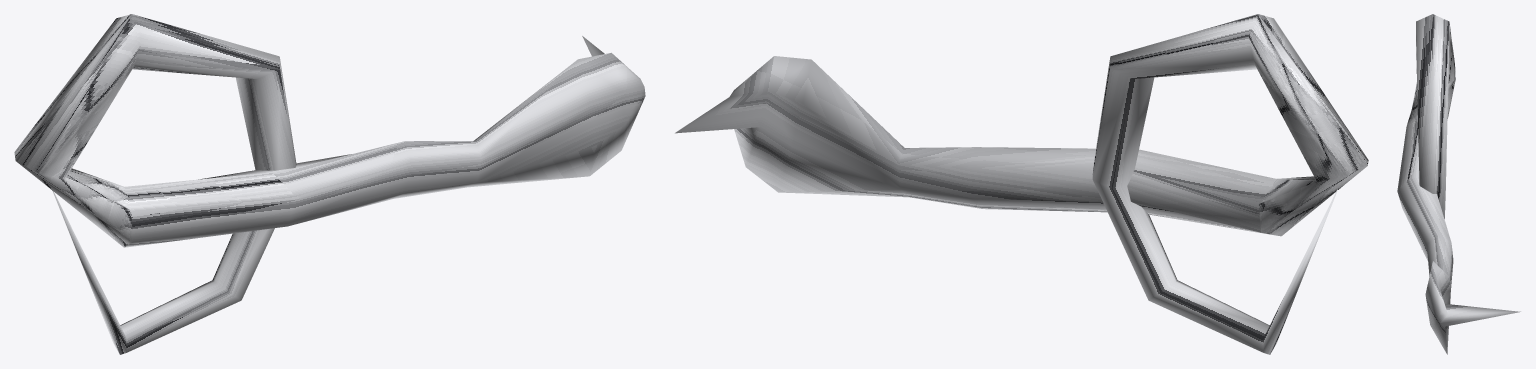
Rendered from snake_000099.obj.
The picture shows the model from 3 angles, left to right: view 1: azimuth 30°, elevation 25°; view 2: azimuth 150°, elevation 25°; view 3: azimuth 270°, elevation 25°; orthographic projection. The views are drawn at different scales.
Visible parts, largest first — view 1: Cylinder; view 2: Cylinder; view 3: Cylinder.
Boxes of the visible parts, left/top/right/bottom form: Cylinder: left=14, top=14, right=645, bottom=354; Cylinder: left=675, top=14, right=1368, bottom=354; Cylinder: left=1397, top=14, right=1520, bottom=354.
Size of the model in its own units: 4.78 by 2.44 by 1.22.
